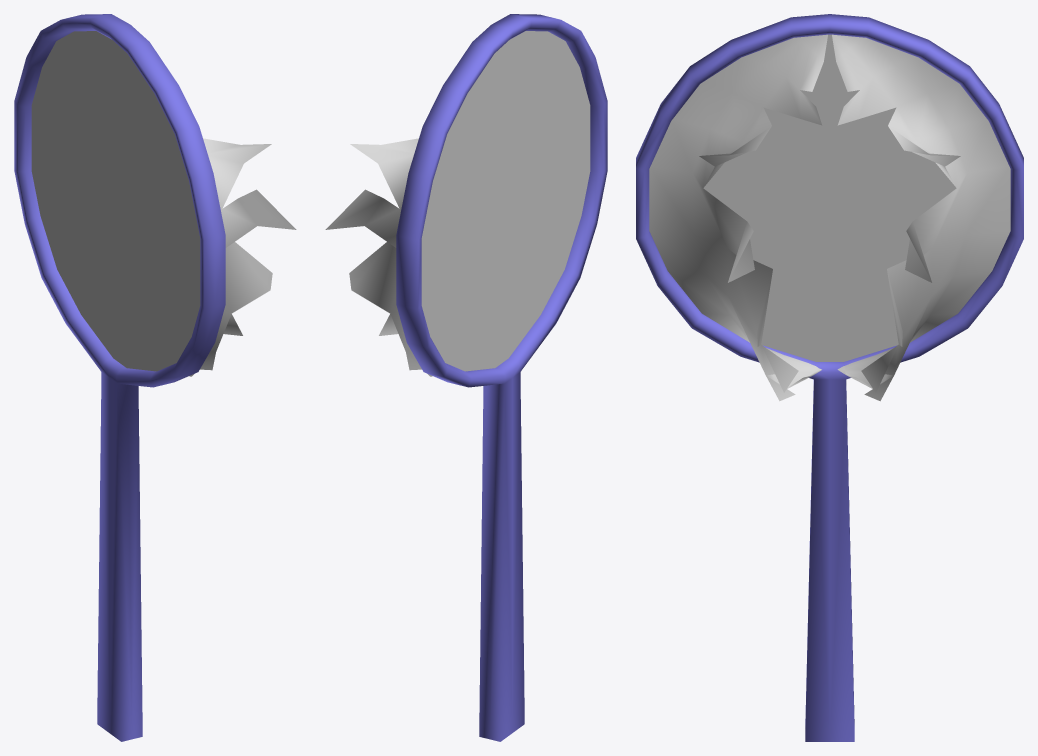
The model's file is capturapeixos 1.fbx.
3 views of the same model, side by side, from view 1: azimuth 30°, elevation 25°; view 2: azimuth 150°, elevation 25°; view 3: azimuth 270°, elevation 25° (orthographic). The views are drawn at different scales.
Visible parts, largest first — view 1: Cylinder.009, paletaPeixos, Cylinder.010; view 2: Cylinder.009, paletaPeixos, Cylinder.010; view 3: Cylinder.010, Cylinder.009, paletaPeixos.
Part boxes in pixels (x1,y1,x2,y2): Cylinder.009: [31, 31, 200, 371]; paletaPeixos: [14, 14, 225, 741]; Cylinder.010: [189, 138, 296, 376]; Cylinder.009: [421, 31, 590, 371]; paletaPeixos: [396, 14, 607, 741]; Cylinder.010: [325, 138, 432, 376]; Cylinder.010: [649, 34, 1010, 401]; Cylinder.009: [703, 34, 956, 361]; paletaPeixos: [636, 14, 1023, 741].
Size of the model in its own units: 8.12 by 39.77 by 19.49.
